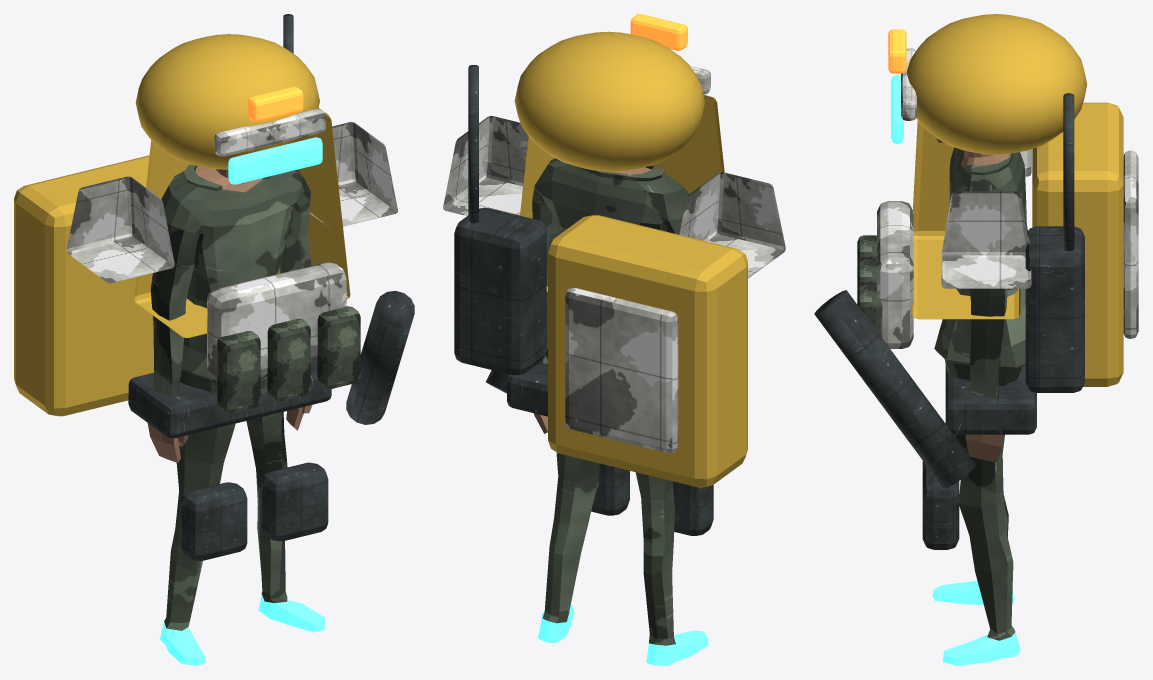
File: worker.glb
The picture shows the model from 3 angles, left to right: view 1: azimuth 30°, elevation 25°; view 2: azimuth 150°, elevation 25°; view 3: azimuth 270°, elevation 25°; orthographic projection. The views are drawn at different scales.
Parts seen in each view (by area): view 1: worker_worker_safety, BaseHuman_baked, worker_armor_dark, worker_team_primary, worker_team_accent, worker_fabric_dark, worker_glass_emissive, worker_warning_emissive; view 2: worker_worker_safety, worker_team_primary, BaseHuman_baked, worker_armor_dark, worker_warning_emissive; view 3: worker_worker_safety, worker_armor_dark, BaseHuman_baked, worker_team_primary, worker_team_accent, worker_fabric_dark, worker_warning_emissive, worker_glass_emissive.
Boxes of the visible parts, x1,y1,x2,y2 form: worker_worker_safety: [14, 34, 350, 416]; BaseHuman_baked: [147, 164, 324, 665]; worker_armor_dark: [128, 14, 414, 560]; worker_team_primary: [66, 122, 397, 283]; worker_team_accent: [207, 108, 346, 381]; worker_fabric_dark: [217, 306, 360, 413]; worker_glass_emissive: [228, 137, 322, 184]; worker_warning_emissive: [248, 86, 303, 122]; worker_worker_safety: [514, 31, 747, 487]; worker_team_primary: [443, 116, 785, 453]; BaseHuman_baked: [532, 158, 708, 665]; worker_armor_dark: [454, 65, 713, 535]; worker_warning_emissive: [630, 14, 687, 50]; worker_worker_safety: [907, 14, 1123, 386]; worker_armor_dark: [814, 93, 1084, 549]; BaseHuman_baked: [932, 138, 1026, 665]; worker_team_primary: [941, 149, 1138, 338]; worker_team_accent: [877, 48, 916, 348]; worker_fabric_dark: [857, 235, 882, 337]; worker_warning_emissive: [888, 29, 906, 73]; worker_glass_emissive: [891, 75, 903, 143].
Size of the model in its own units: 0.7887 by 1.45 by 0.7095.
8 materials, 4 textured.
